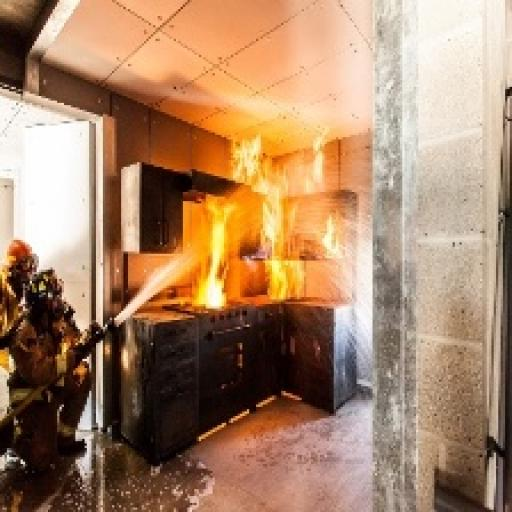fire and smoke: (194, 135, 322, 304), (320, 219, 341, 254)
